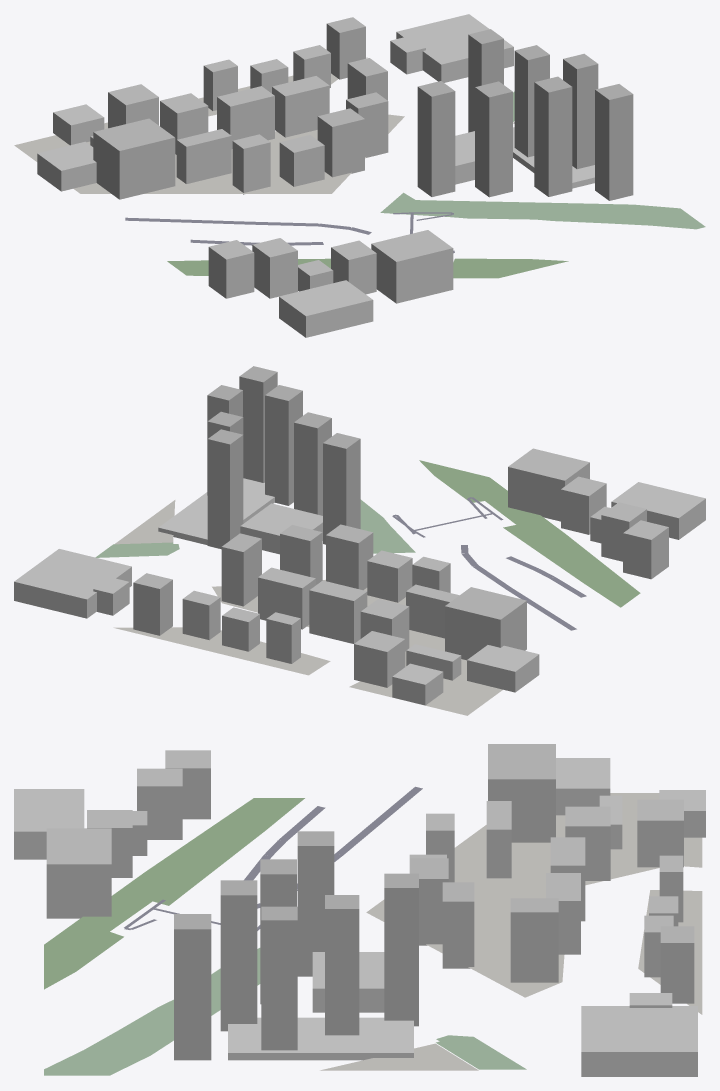
The model's file is 132_88_mid.glb.
3 renders of one model, top to bottom at view 1: azimuth 30°, elevation 25°; view 2: azimuth 150°, elevation 25°; view 3: azimuth 270°, elevation 25°, orthographic. The views are drawn at different scales.
Bounding box in the file's own units: 531 × 122 × 525.
